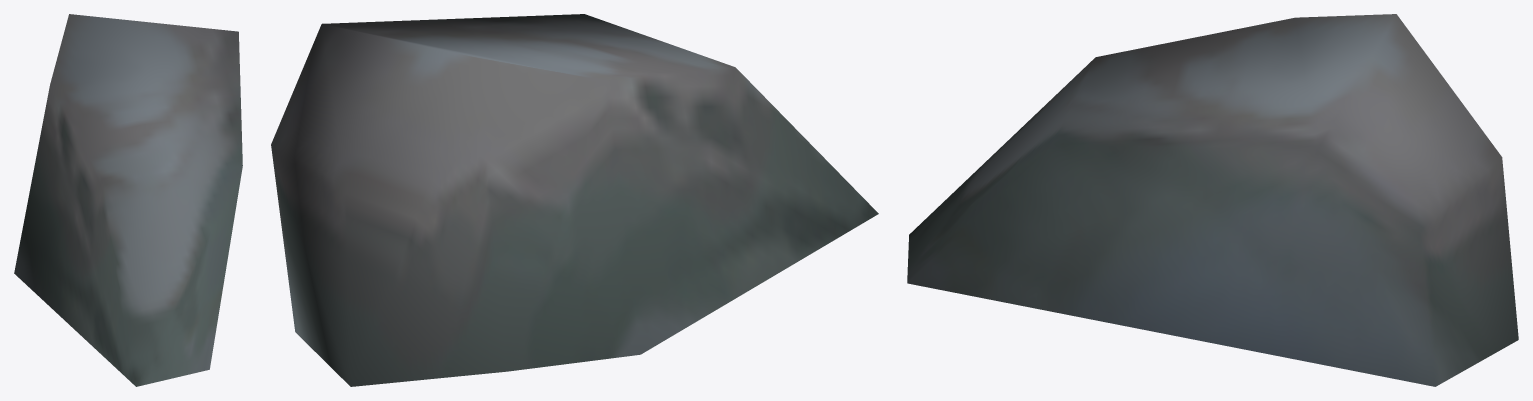
File: yewai_xiaoshitou_03.FBX
3 views of the same model, side by side, from view 1: azimuth 30°, elevation 25°; view 2: azimuth 150°, elevation 25°; view 3: azimuth 270°, elevation 25° (orthographic). The views are drawn at different scales.
Parts seen in each view (by area): view 1: yewai_xiaoshitou_03; view 2: yewai_xiaoshitou_03; view 3: yewai_xiaoshitou_03.
Part boxes in pixels (left/top/right/bottom): yewai_xiaoshitou_03: left=14, top=14, right=242, bottom=386; yewai_xiaoshitou_03: left=271, top=14, right=878, bottom=386; yewai_xiaoshitou_03: left=907, top=14, right=1518, bottom=386.
Size of the model in its own units: 36.64 by 29.95 by 56.3.
